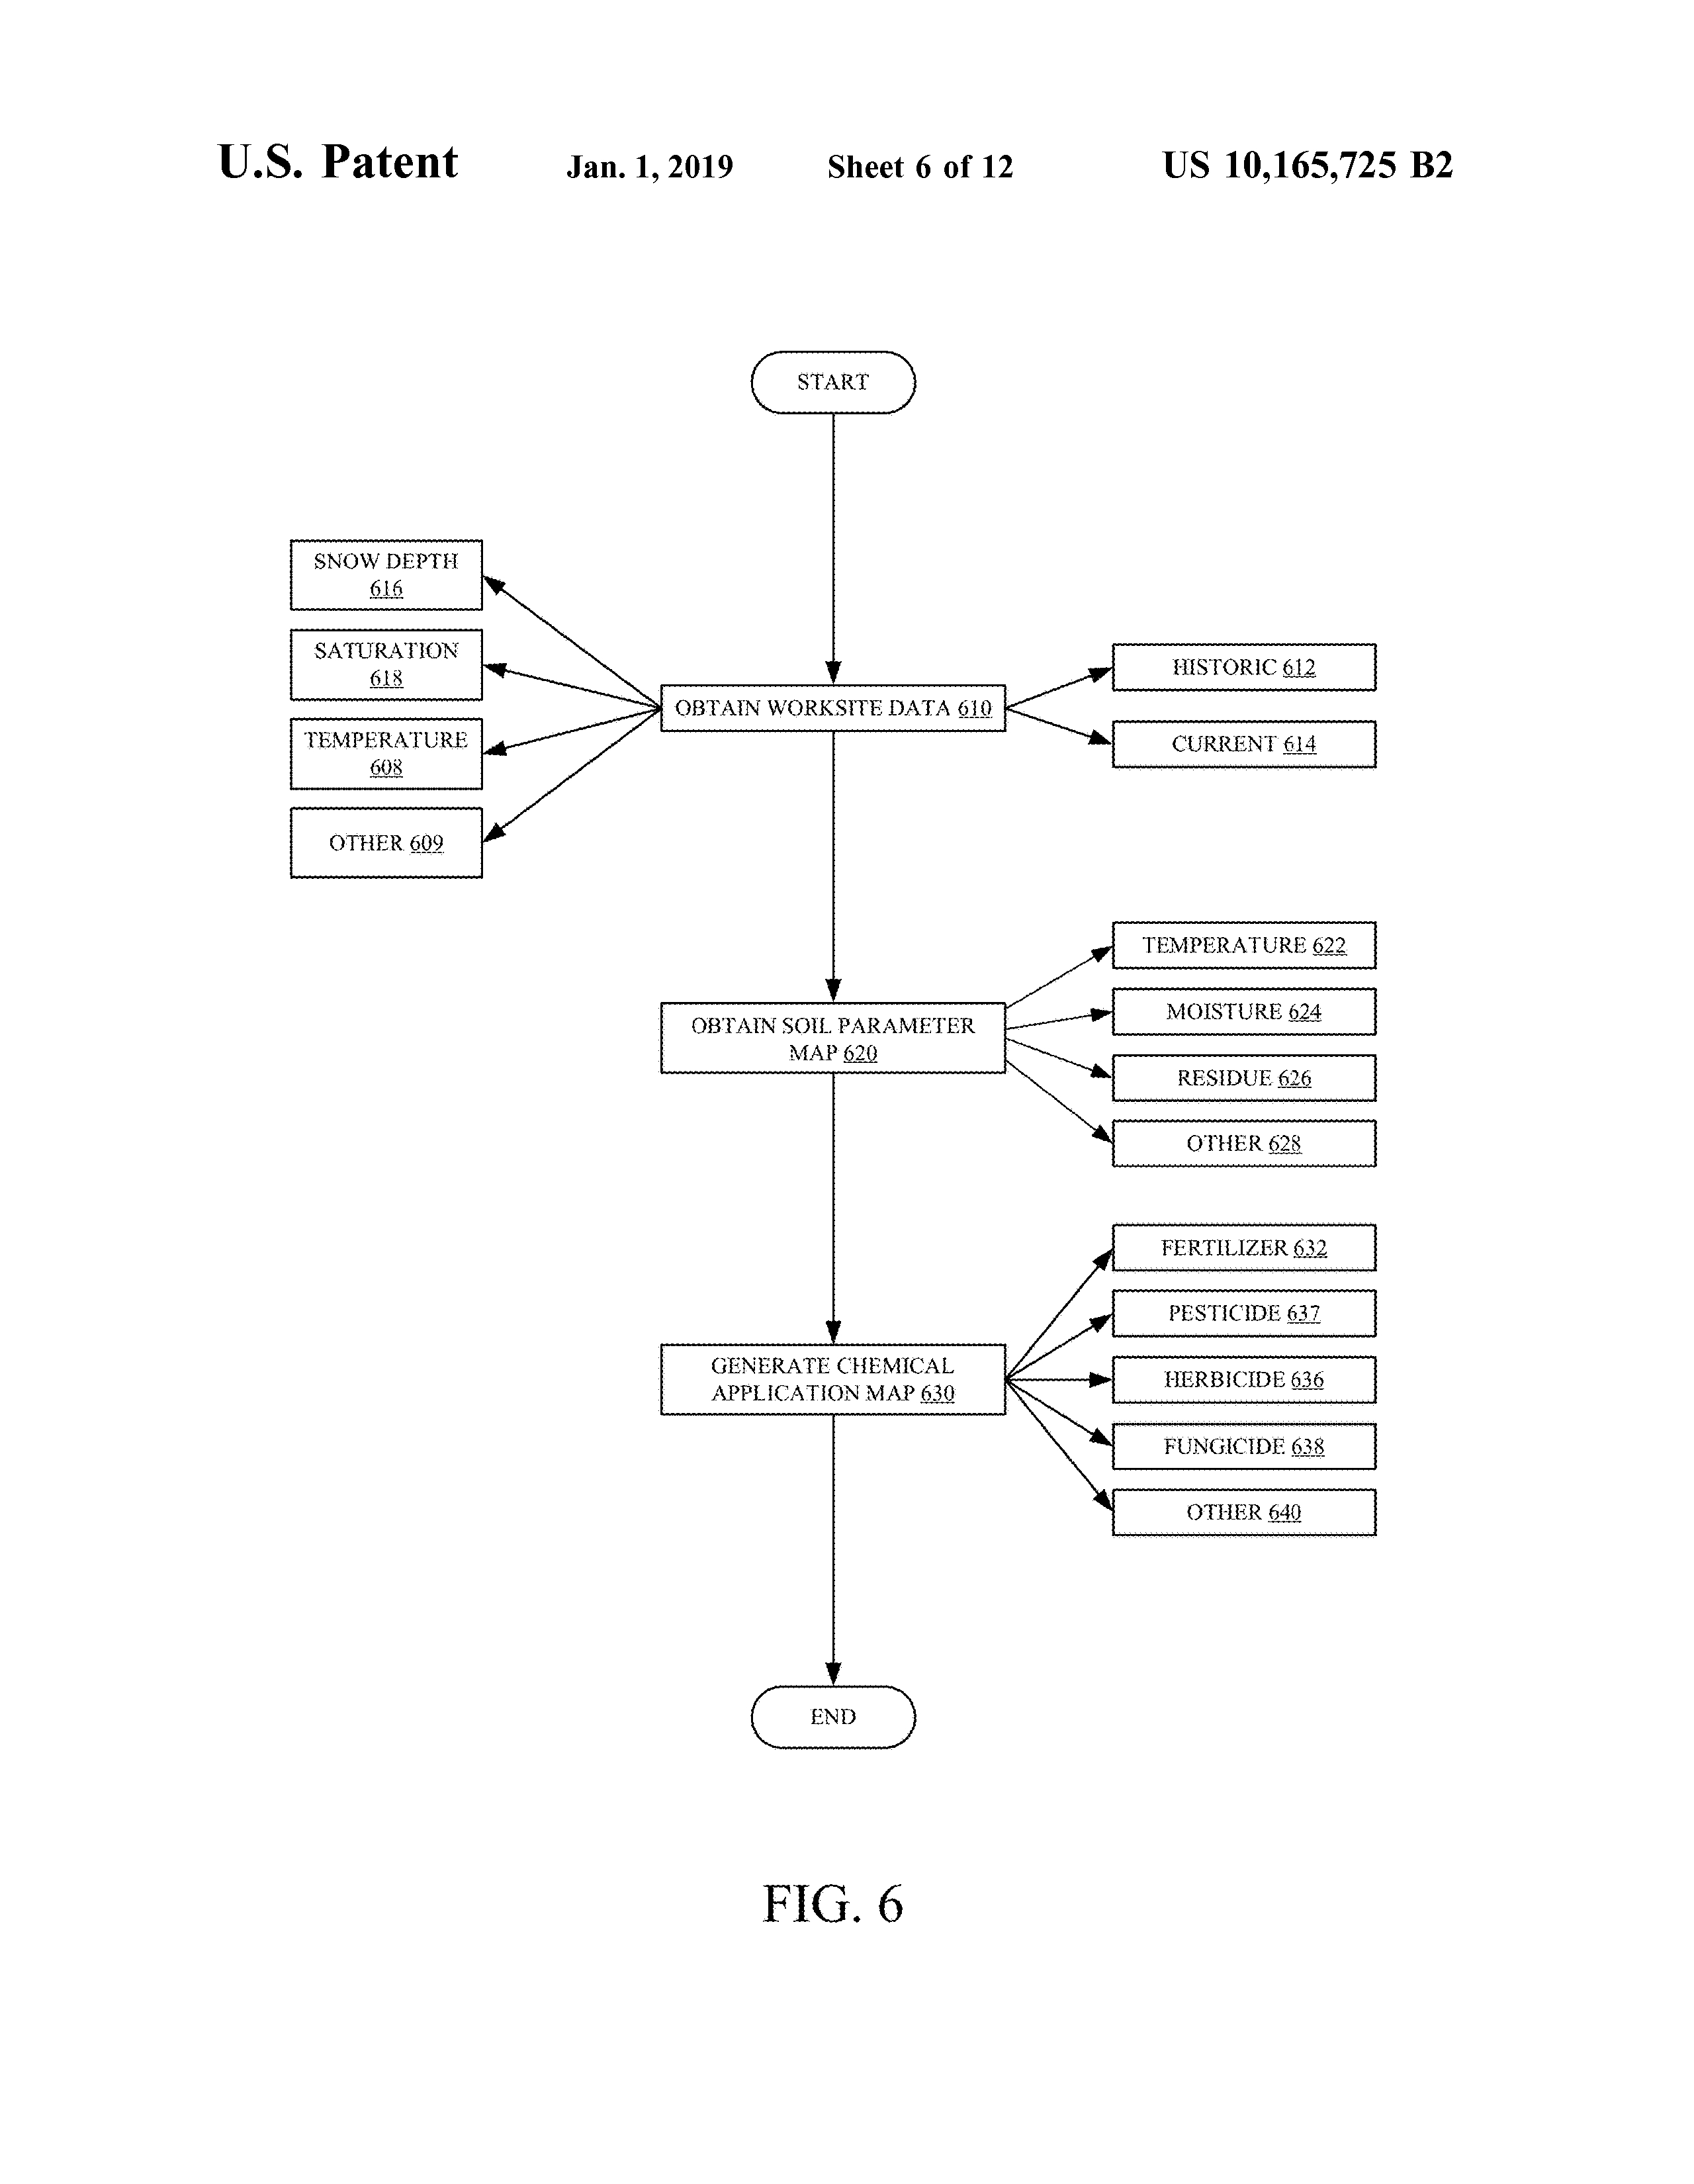patent image: (270, 328, 1423, 1954)
